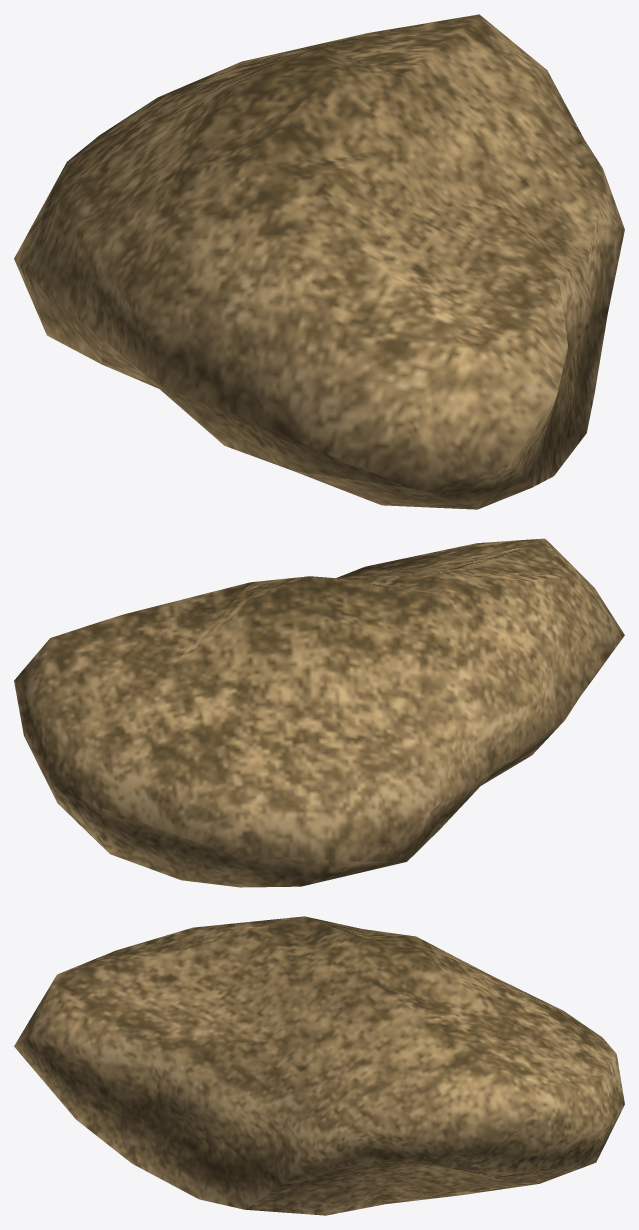
File: mm8_deco_rock25.glb
The picture shows the model from 3 angles, top to bottom: view 1: azimuth 30°, elevation 25°; view 2: azimuth 150°, elevation 25°; view 3: azimuth 270°, elevation 25°; orthographic projection. The views are drawn at different scales.
Visible parts, largest first — view 1: Rock25; view 2: Rock25; view 3: Rock25.
Boxes of the visible parts, x1,y1,x2,y2 form: Rock25: (14,14,624,509); Rock25: (14,538,624,887); Rock25: (14,916,624,1215).
Size of the model in its own units: 0.352 by 0.2072 by 0.4987.
Materials: 1 (1 with a texture image).
